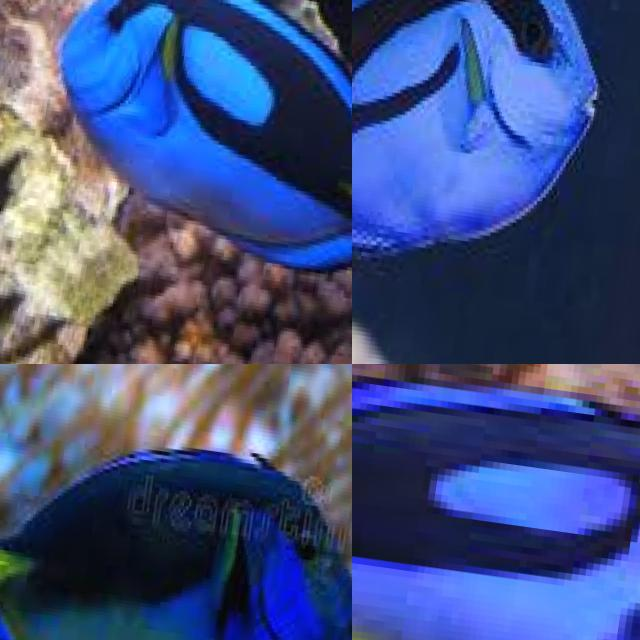BlueTang: (63, 0, 353, 262), (349, 382, 640, 640), (0, 450, 334, 640), (352, 0, 600, 252)
